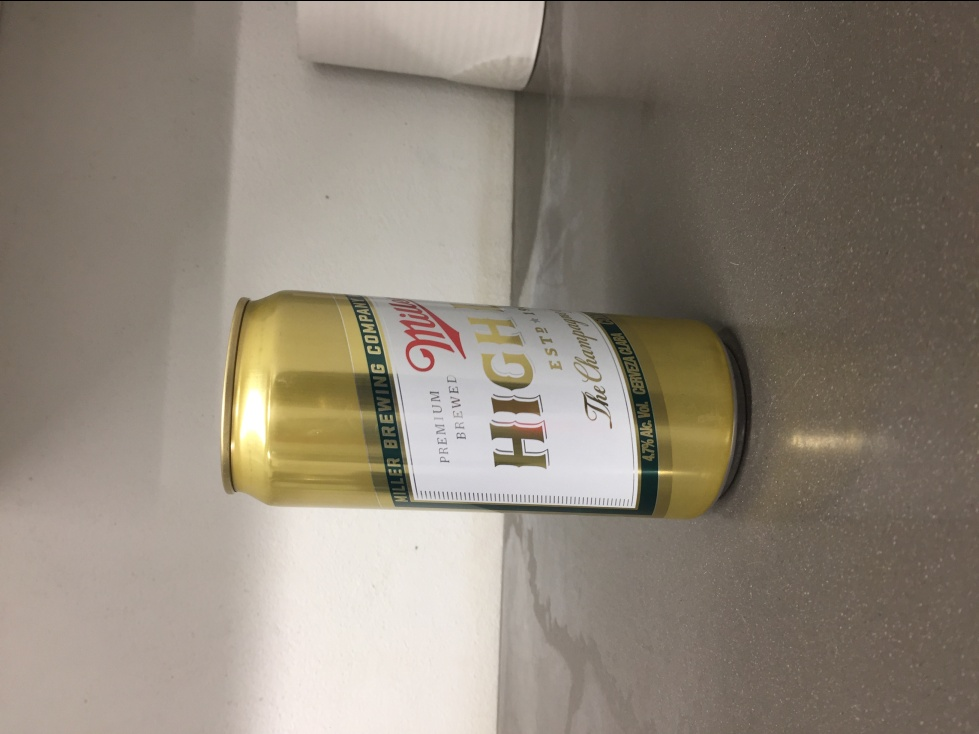miller: (218, 287, 748, 523)
